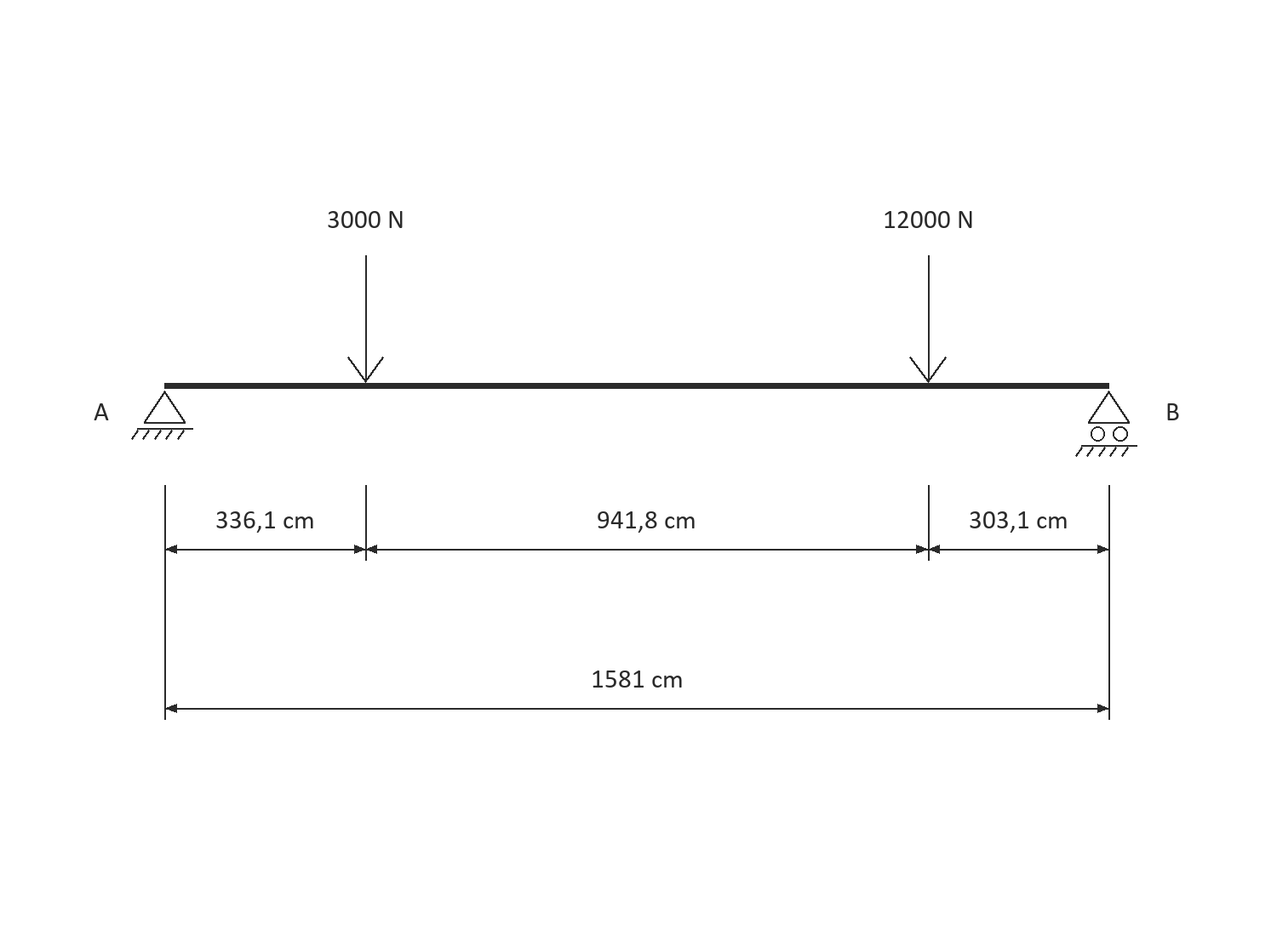pin_support: (131, 391, 193, 440)
point_load: (909, 255, 947, 383), (347, 255, 384, 383)
roller_support: (1075, 391, 1137, 457)
